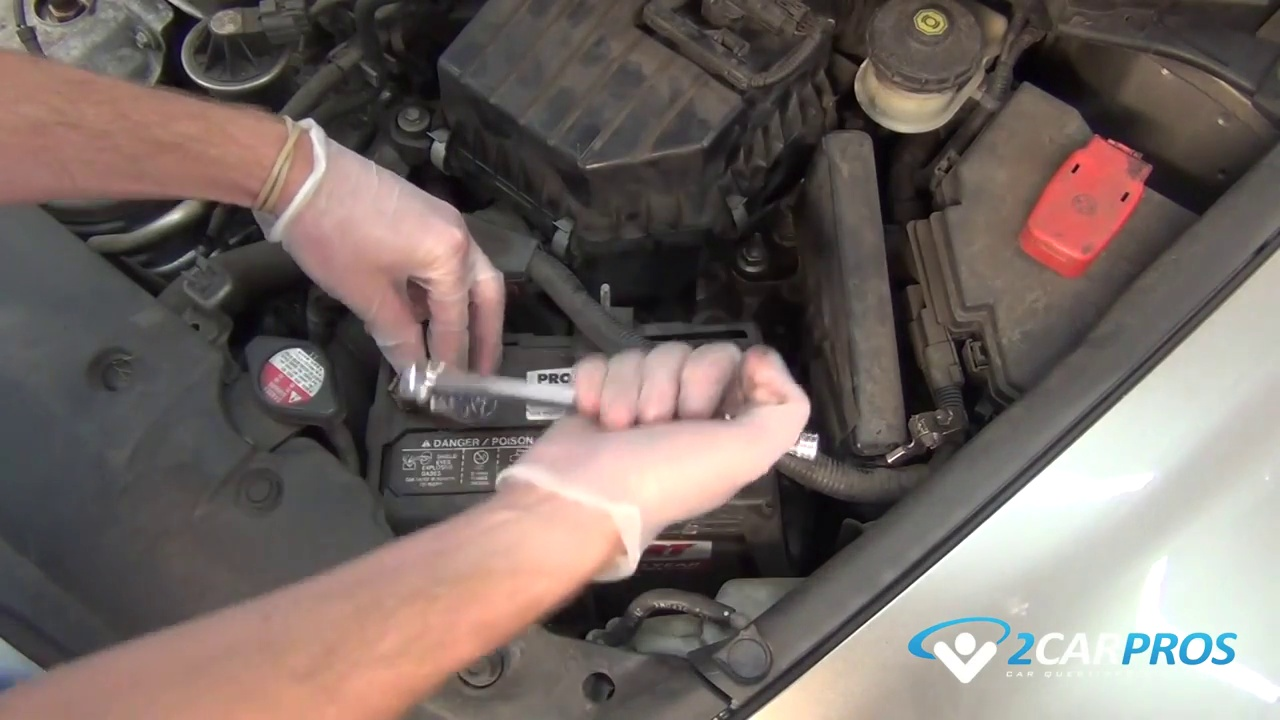battery: (374, 322, 789, 539)
